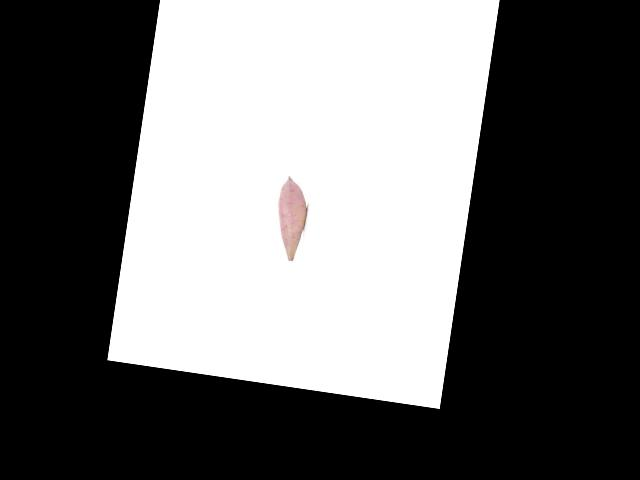sweet_potato: (270, 174, 309, 262)
